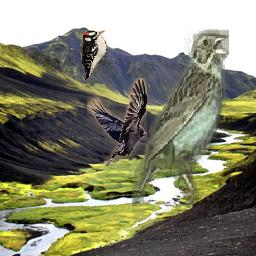Crow: (87, 78, 147, 166)
Sparrow: (133, 23, 230, 212)
Woodpecker: (80, 30, 108, 80)
